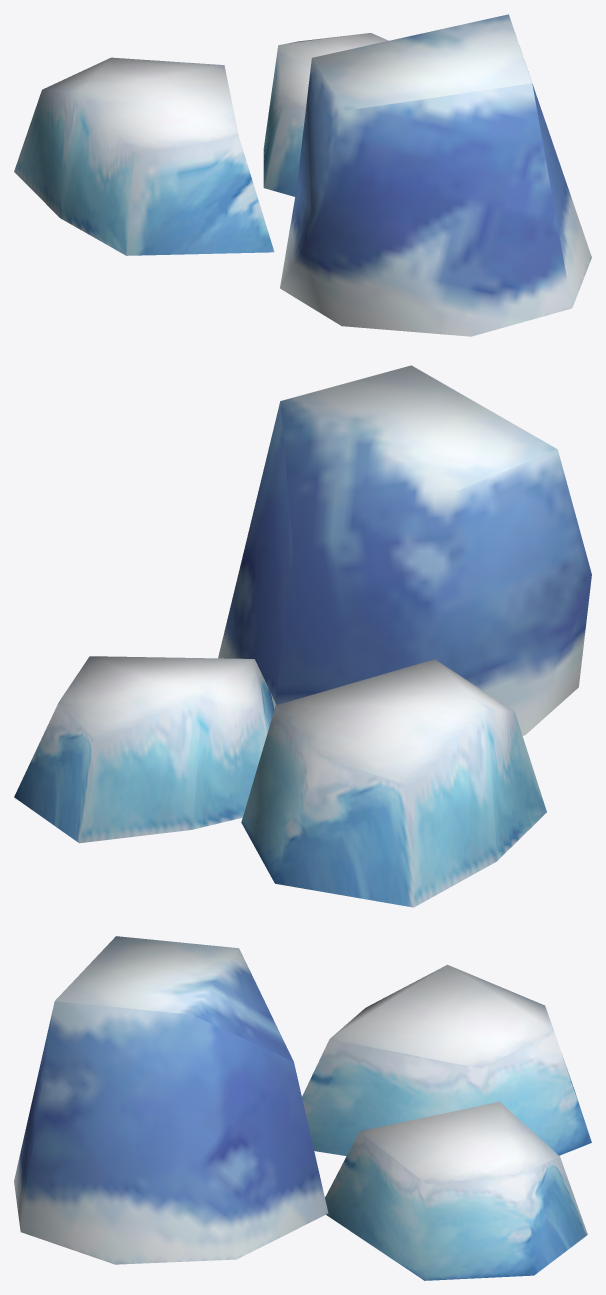
The model's file is SM_stoneB_12.fbx.
The picture shows the model from 3 angles, top to bottom: view 1: azimuth 30°, elevation 25°; view 2: azimuth 150°, elevation 25°; view 3: azimuth 270°, elevation 25°; orthographic projection. The views are drawn at different scales.
Visible parts, largest first — view 1: SM_stoneB_12; view 2: SM_stoneB_12; view 3: SM_stoneB_12.
Boxes of the visible parts, x1,y1,x2,y2 form: SM_stoneB_12: [14, 14, 591, 336]; SM_stoneB_12: [14, 365, 591, 907]; SM_stoneB_12: [14, 936, 591, 1280].
Bounding box in the file's own units: 1.22 × 0.6962 × 1.57.
